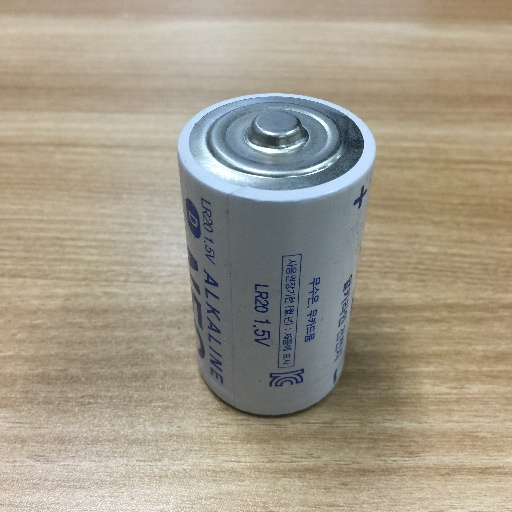Battery_0: (168, 83, 381, 414)
